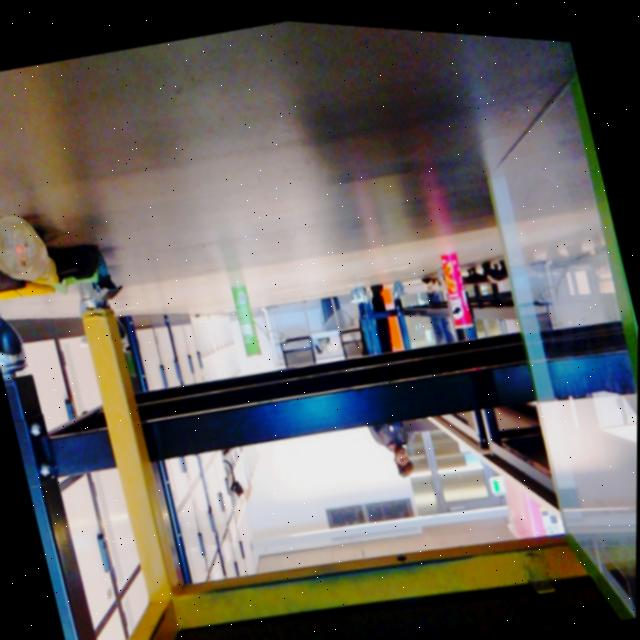greenpringles: (208, 253, 282, 374)
redpringles: (419, 224, 494, 345)
